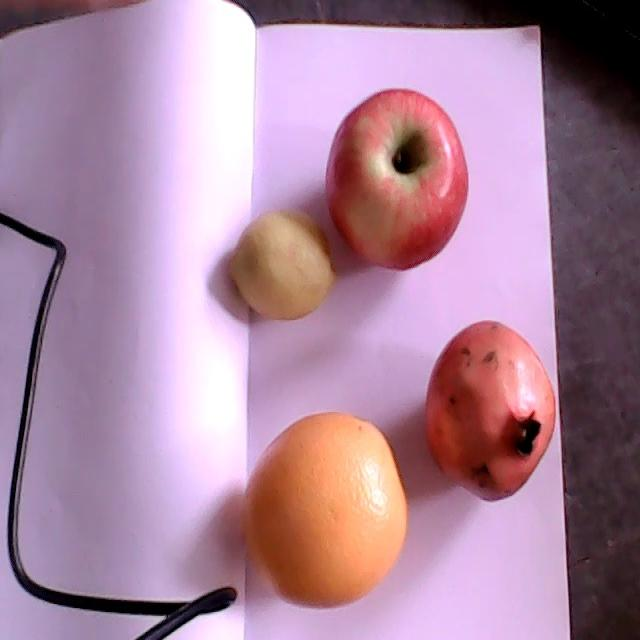apple: (324, 88, 469, 270)
lemon: (224, 207, 338, 321)
orange: (239, 411, 408, 609)
pomegranate: (424, 318, 557, 500)
